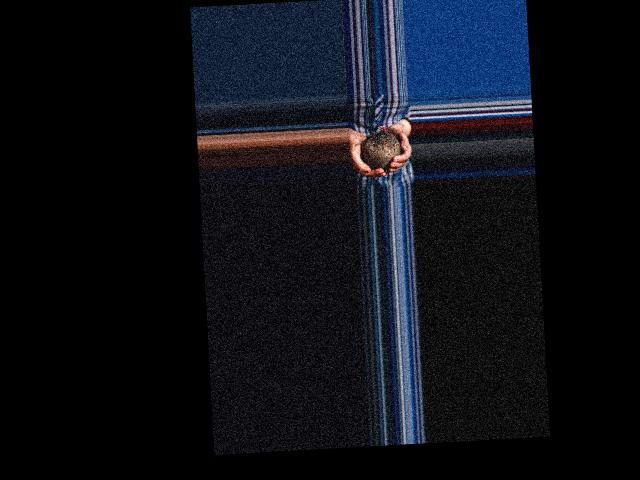beet: (359, 124, 401, 170)
